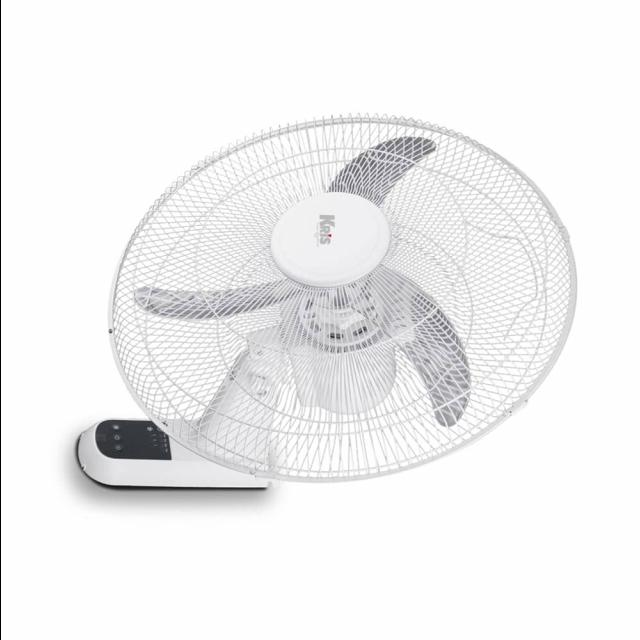fan: (69, 112, 583, 501)
